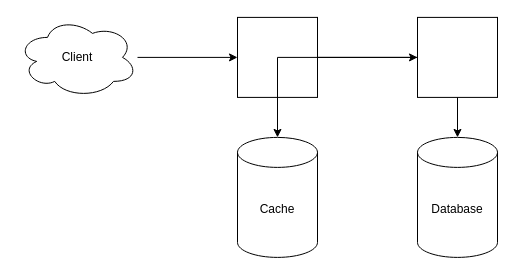
The diagram is 515 pixels wide and 275 high, and some of its shapes have lost their labels. The centre of each missing label's shape, as x and y in pixels:
API Gateway: pixel 277 56
URL Service: pixel 457 56
